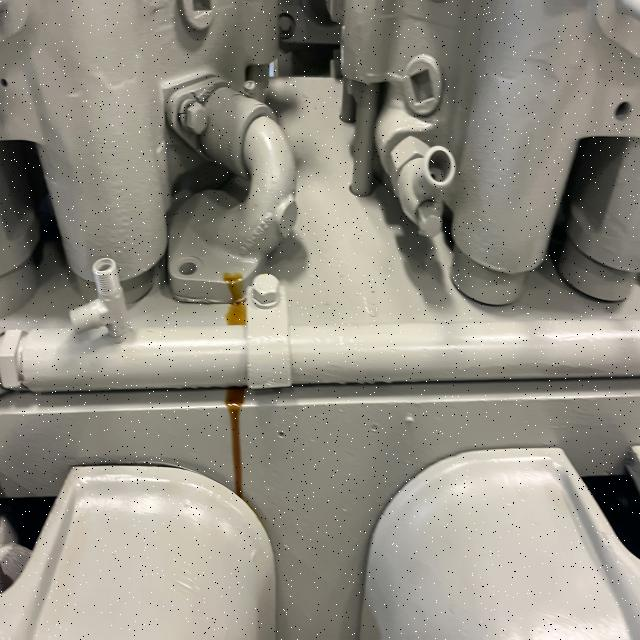Oil Leak: (224, 388, 244, 499), (222, 271, 248, 327)
